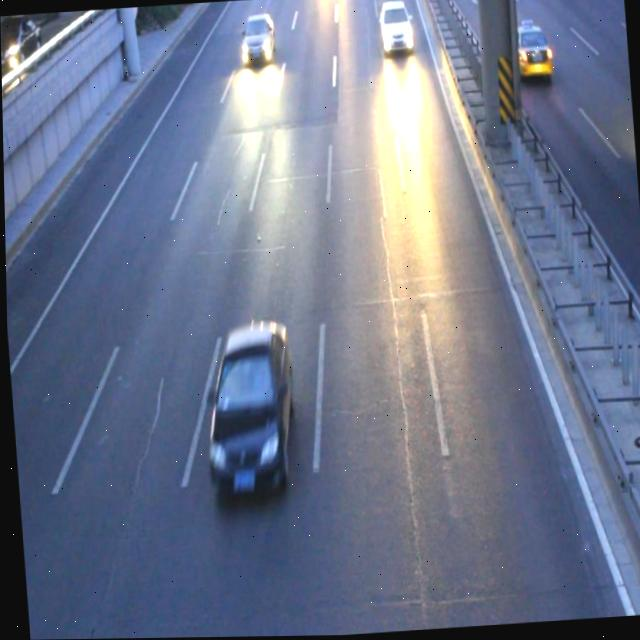car: (196, 320, 297, 501), (503, 22, 550, 81), (377, 0, 412, 54), (239, 15, 275, 65)
